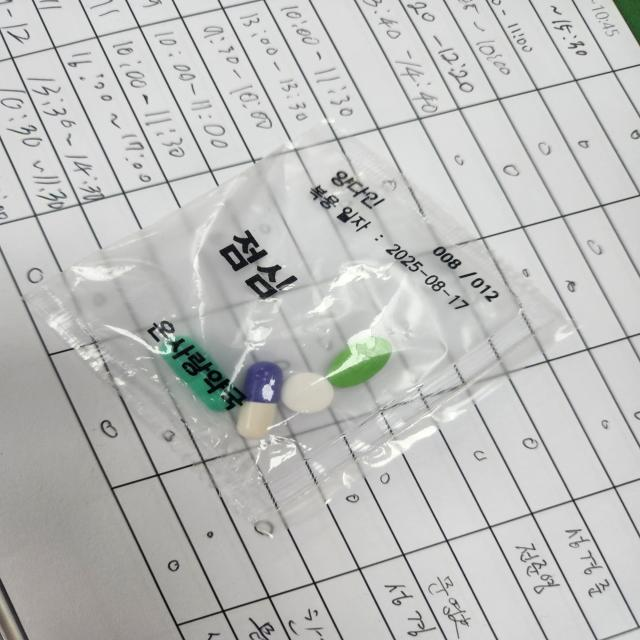러키펜정: (278, 371, 337, 420)
씨엠지세파클러캡슐: (235, 363, 287, 445)
에르도캡슐: (157, 337, 242, 416)
휴티렌정: (327, 335, 395, 391)
